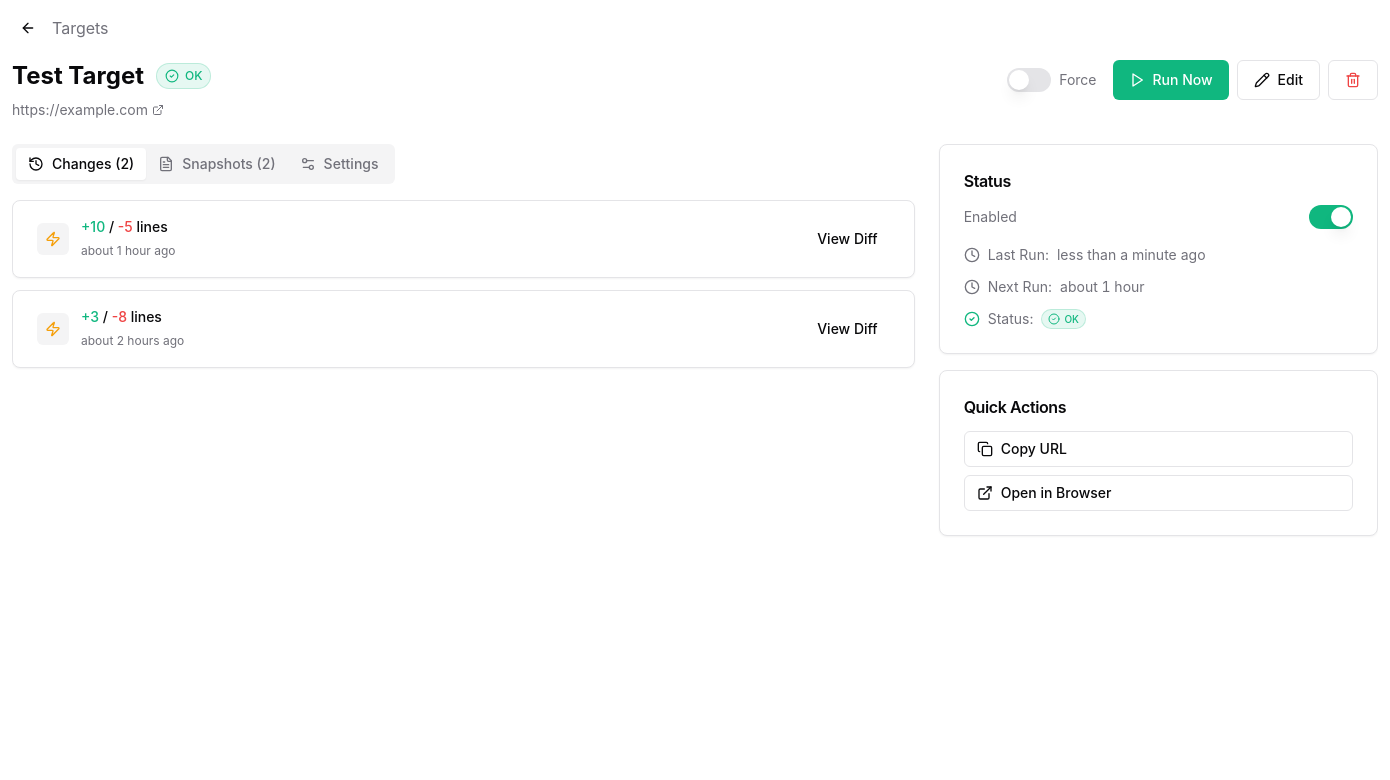
Scenario: TargetDetail › tabs rendering › should render settings tab when clicked
Click the tab "Settings" at [339, 164], box [288, 148, 390, 180]
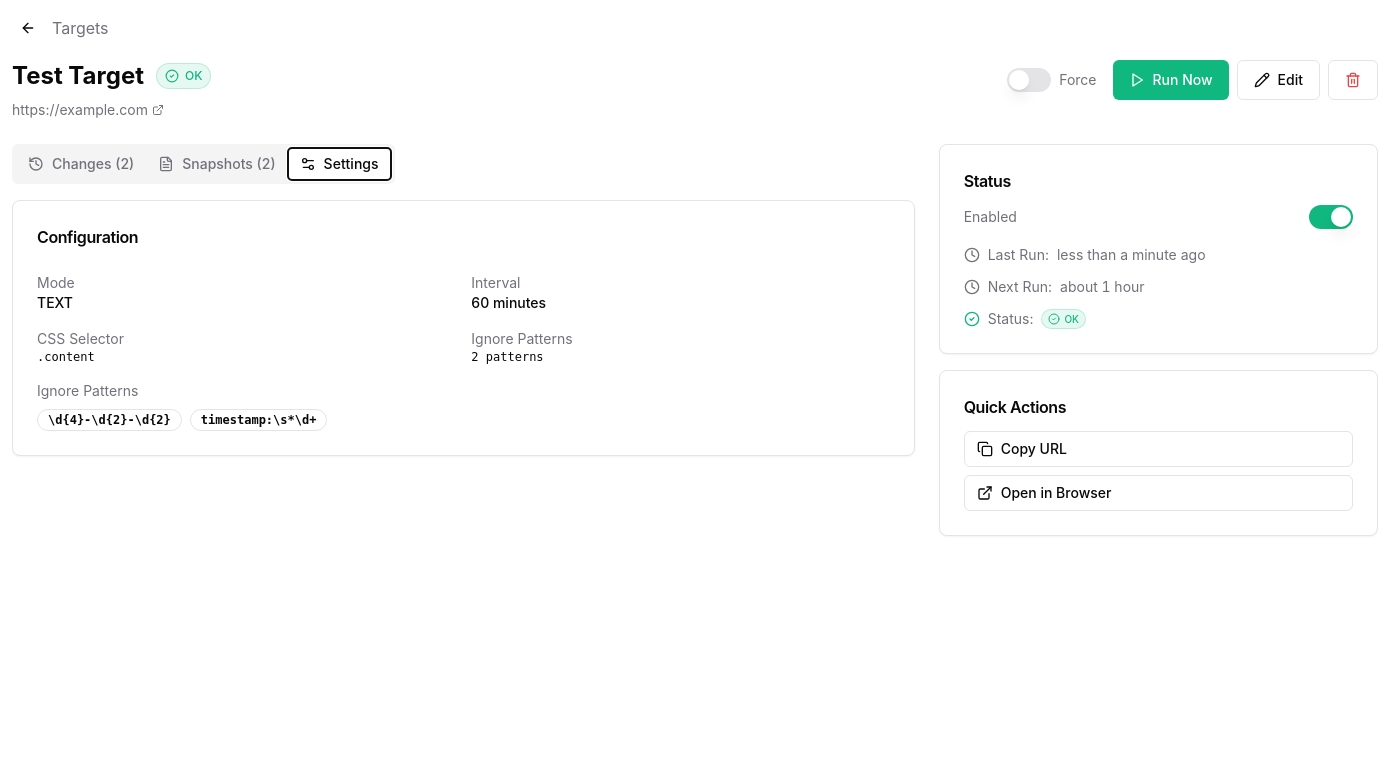
Now the text "Configuration" is shown, box [37, 227, 138, 247]
Now the text "TEXT" is shown, box [37, 294, 73, 311]
Now the text "60 minutes" is shown, box [471, 294, 546, 311]
